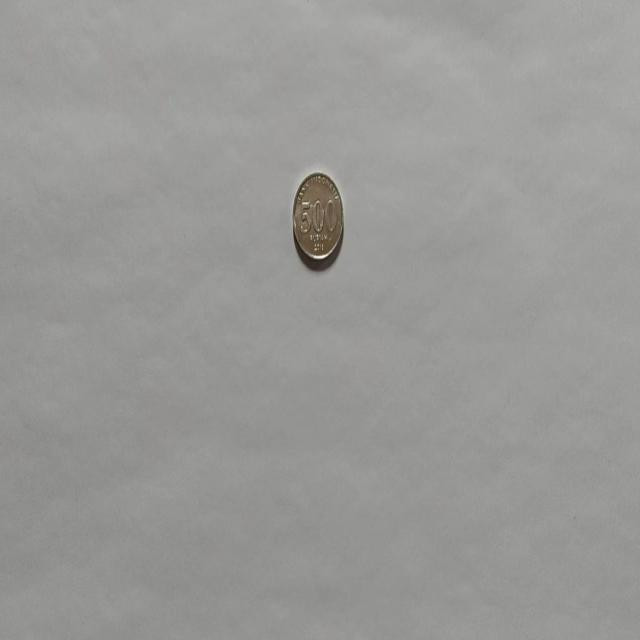lima ratus rupiah: (291, 170, 344, 264)
